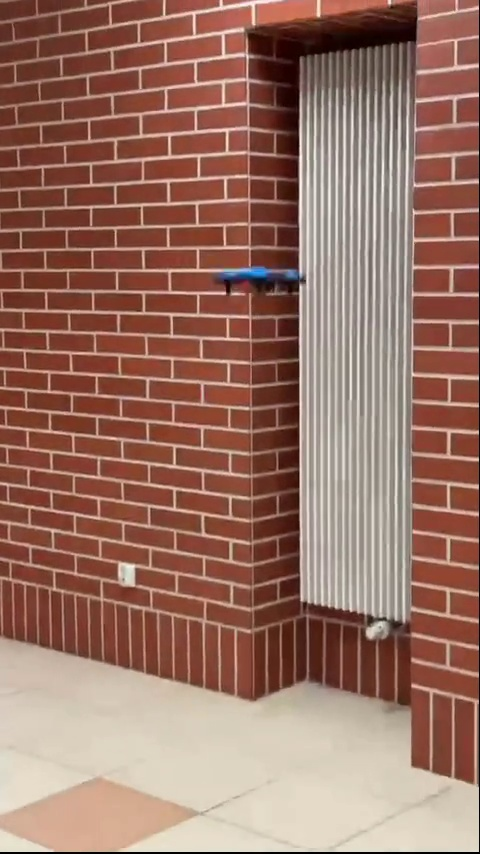drone: (211, 262, 308, 298)
